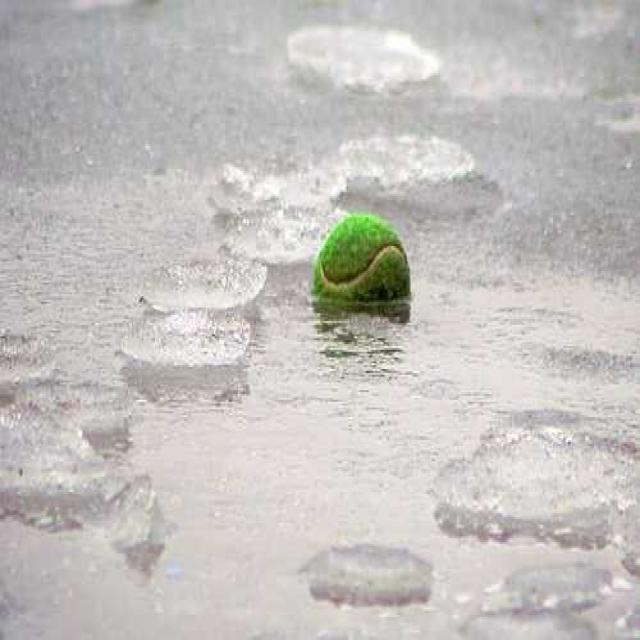Tennis_Ball: (314, 213, 415, 315)
